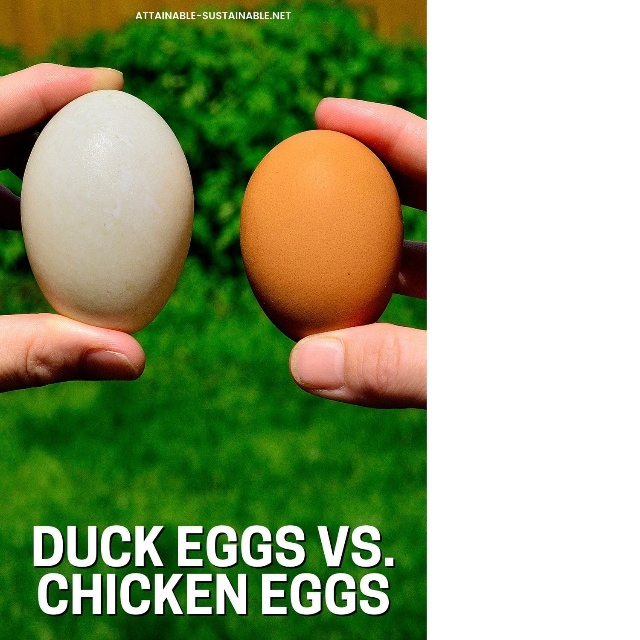trung_ga: (18, 85, 195, 341), (237, 125, 399, 346)
